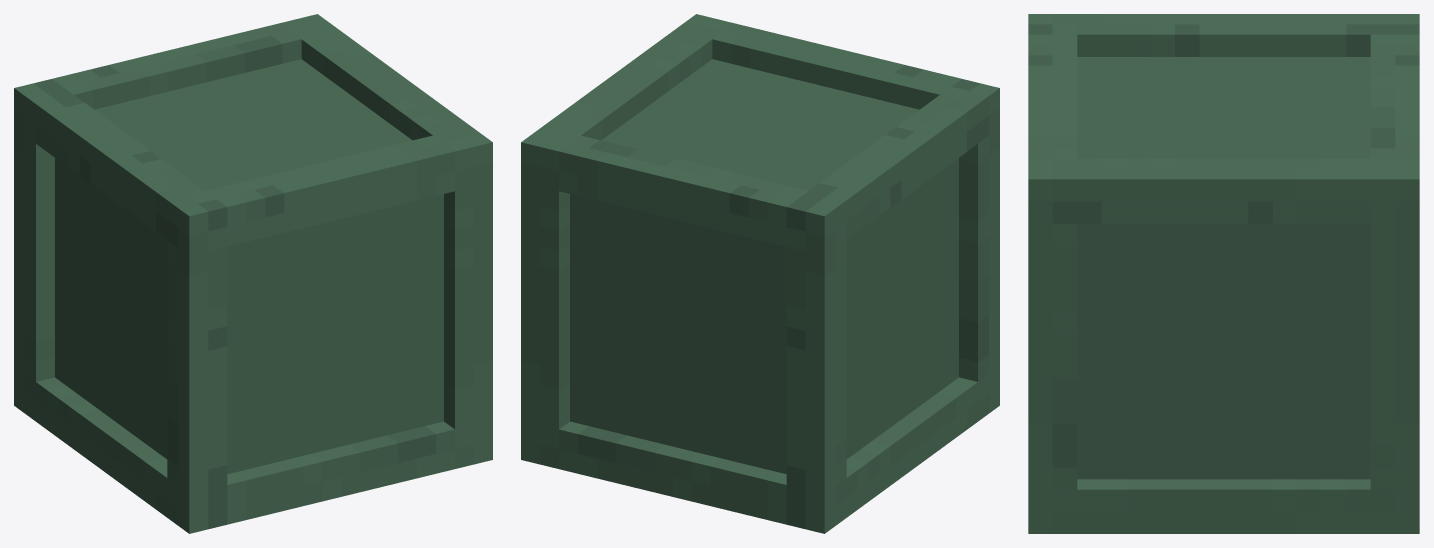
File: wall_new_empty_shaded.obj
3 renders of one model, left to right at view 1: azimuth 30°, elevation 25°; view 2: azimuth 150°, elevation 25°; view 3: azimuth 270°, elevation 25°, orthographic. The views are drawn at different scales.
Bounding box in the file's own units: 16 × 16 × 16.
Materials: 1 (1 with a texture image).
